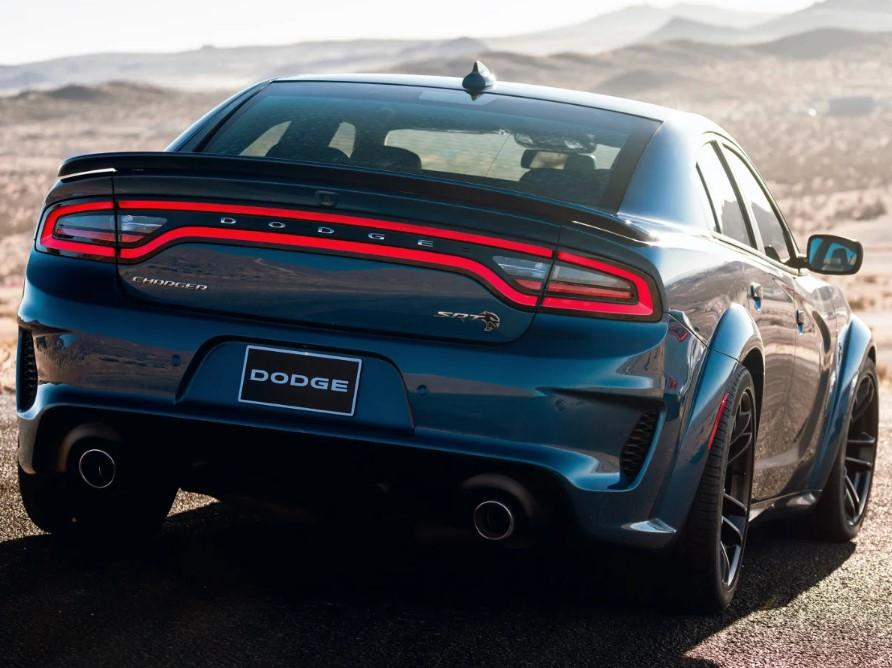dodge: (212, 208, 444, 268)
